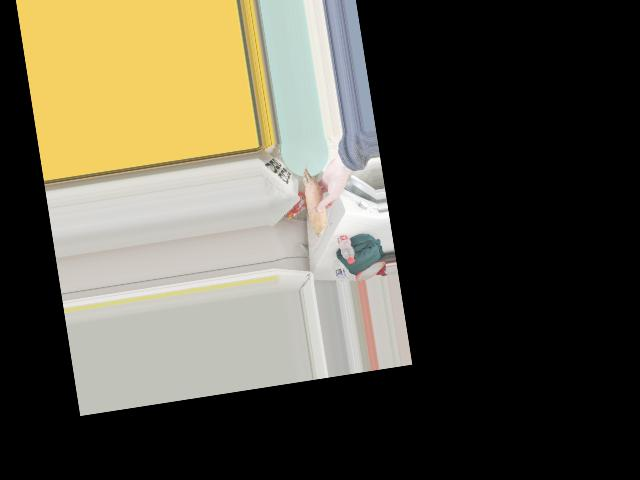sweet_potato: (299, 163, 333, 232)
